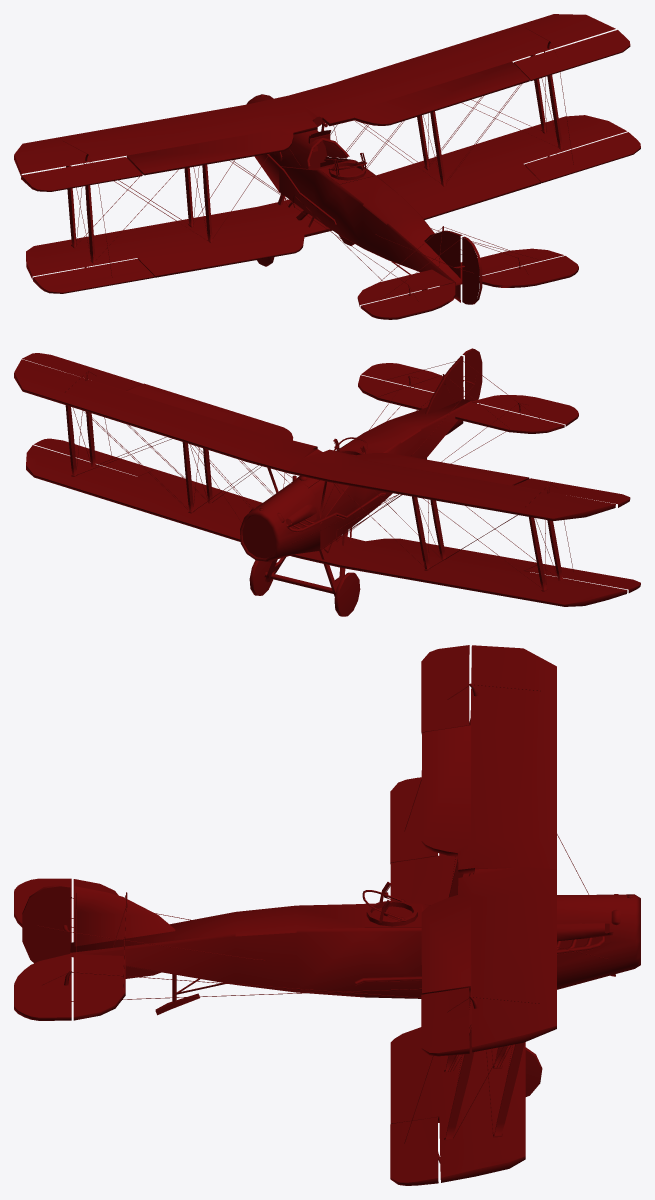
Rendered from biplane-bristol.glb.
3 views of the same model, one above another, from view 1: azimuth 30°, elevation 25°; view 2: azimuth 150°, elevation 25°; view 3: azimuth 270°, elevation 25° (orthographic). The views are drawn at different scales.
Visible parts, largest first — view 1: Bristol_F2B; view 2: Bristol_F2B; view 3: Bristol_F2B.
Boxes of the visible parts, left/top/right/bottom form: Bristol_F2B: left=14, top=14, right=640, bottom=319; Bristol_F2B: left=14, top=348, right=640, bottom=616; Bristol_F2B: left=14, top=645, right=640, bottom=1185.
Bounding box in the file's own units: 11786 × 3160 × 7728.
